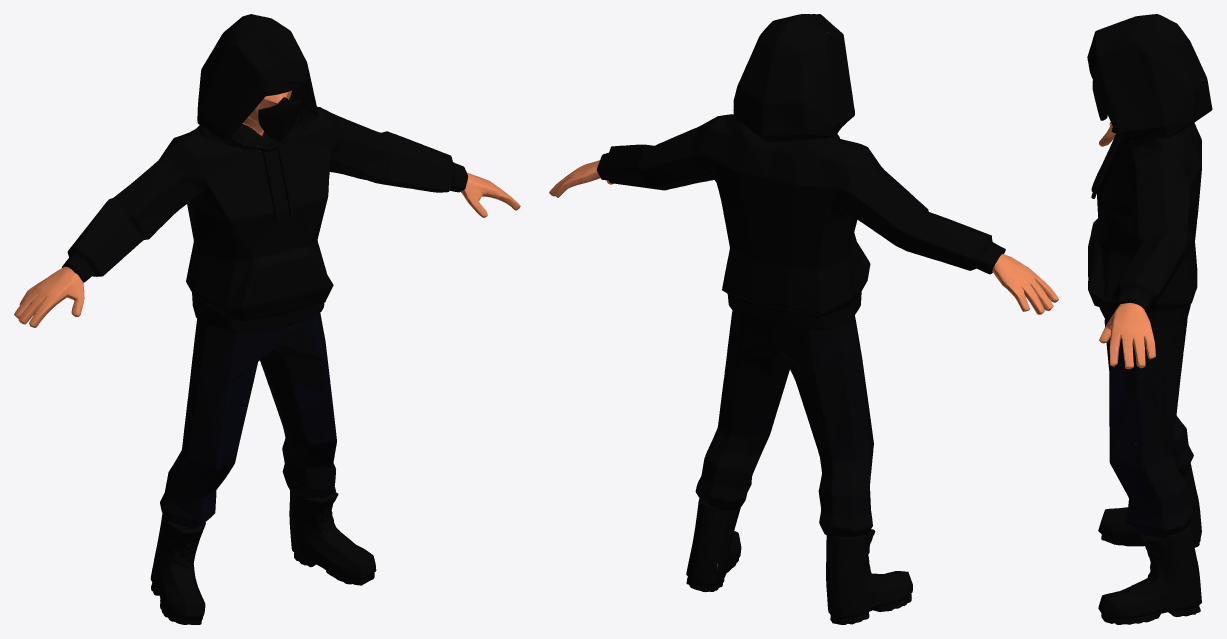
The model's file is HoodedVisitor.obj.
The picture shows the model from 3 angles, left to right: view 1: azimuth 30°, elevation 25°; view 2: azimuth 150°, elevation 25°; view 3: azimuth 270°, elevation 25°; orthographic projection.
Size of the model in its own units: 0.9082 by 1 by 0.201.
Materials: 1 (1 with a texture image).
